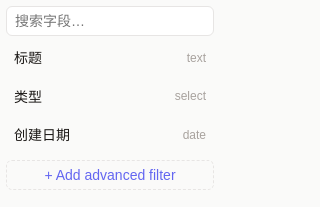
Test case: FieldSelectMenu › search filters fields by label
The image size is (320, 207).
Type "日期" into the field with test id "field-search".
click(110, 21); type("日期")  # box [6,6,214,36]
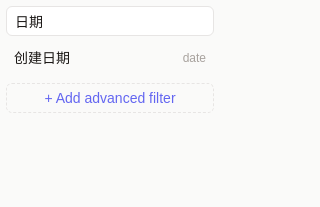
Expected: the list item with test id "field-option" shows "创建日期", [14,50,70,66]
Now the number of list items with test id "field-option" is 1, box [14,50,206,66]
